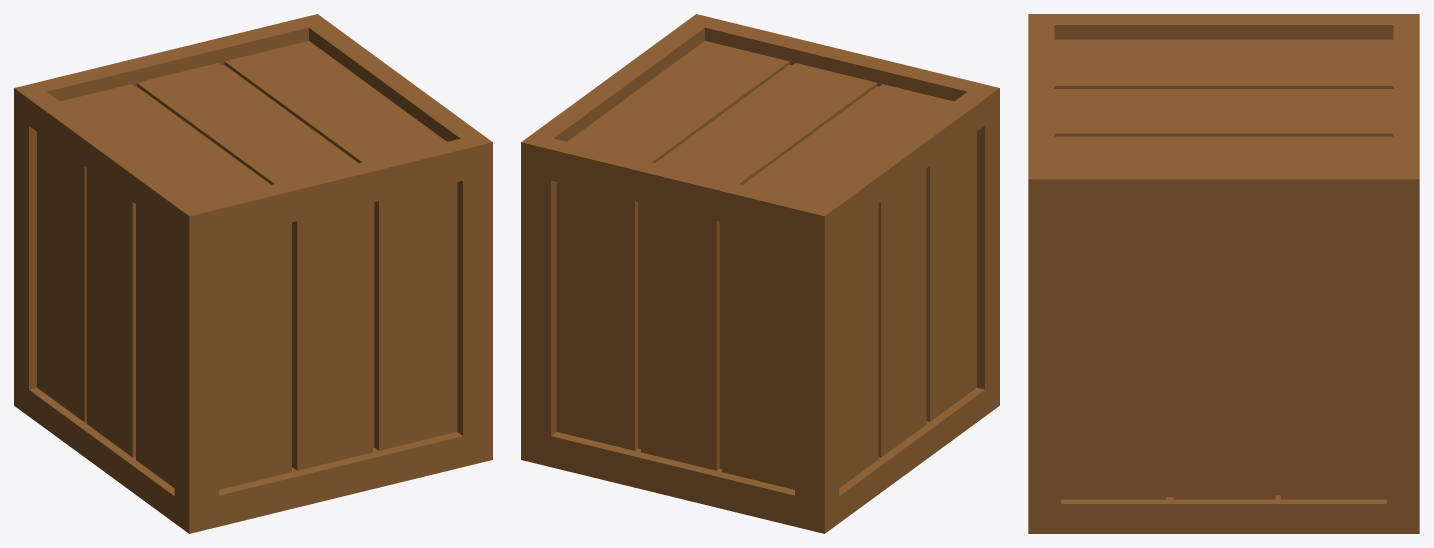
Rendered from Crate.fbx.
The picture shows the model from 3 angles, left to right: view 1: azimuth 30°, elevation 25°; view 2: azimuth 150°, elevation 25°; view 3: azimuth 270°, elevation 25°; orthographic projection. The views are drawn at different scales.
Parts seen in each view (by area): view 1: Cube; view 2: Cube; view 3: Cube.
Boxes of the visible parts, box(x1,y1,x2,y2) form: Cube: box(14, 14, 492, 533); Cube: box(521, 14, 999, 533); Cube: box(1028, 14, 1419, 533).
Bounding box in the file's own units: 400 × 400 × 400.
